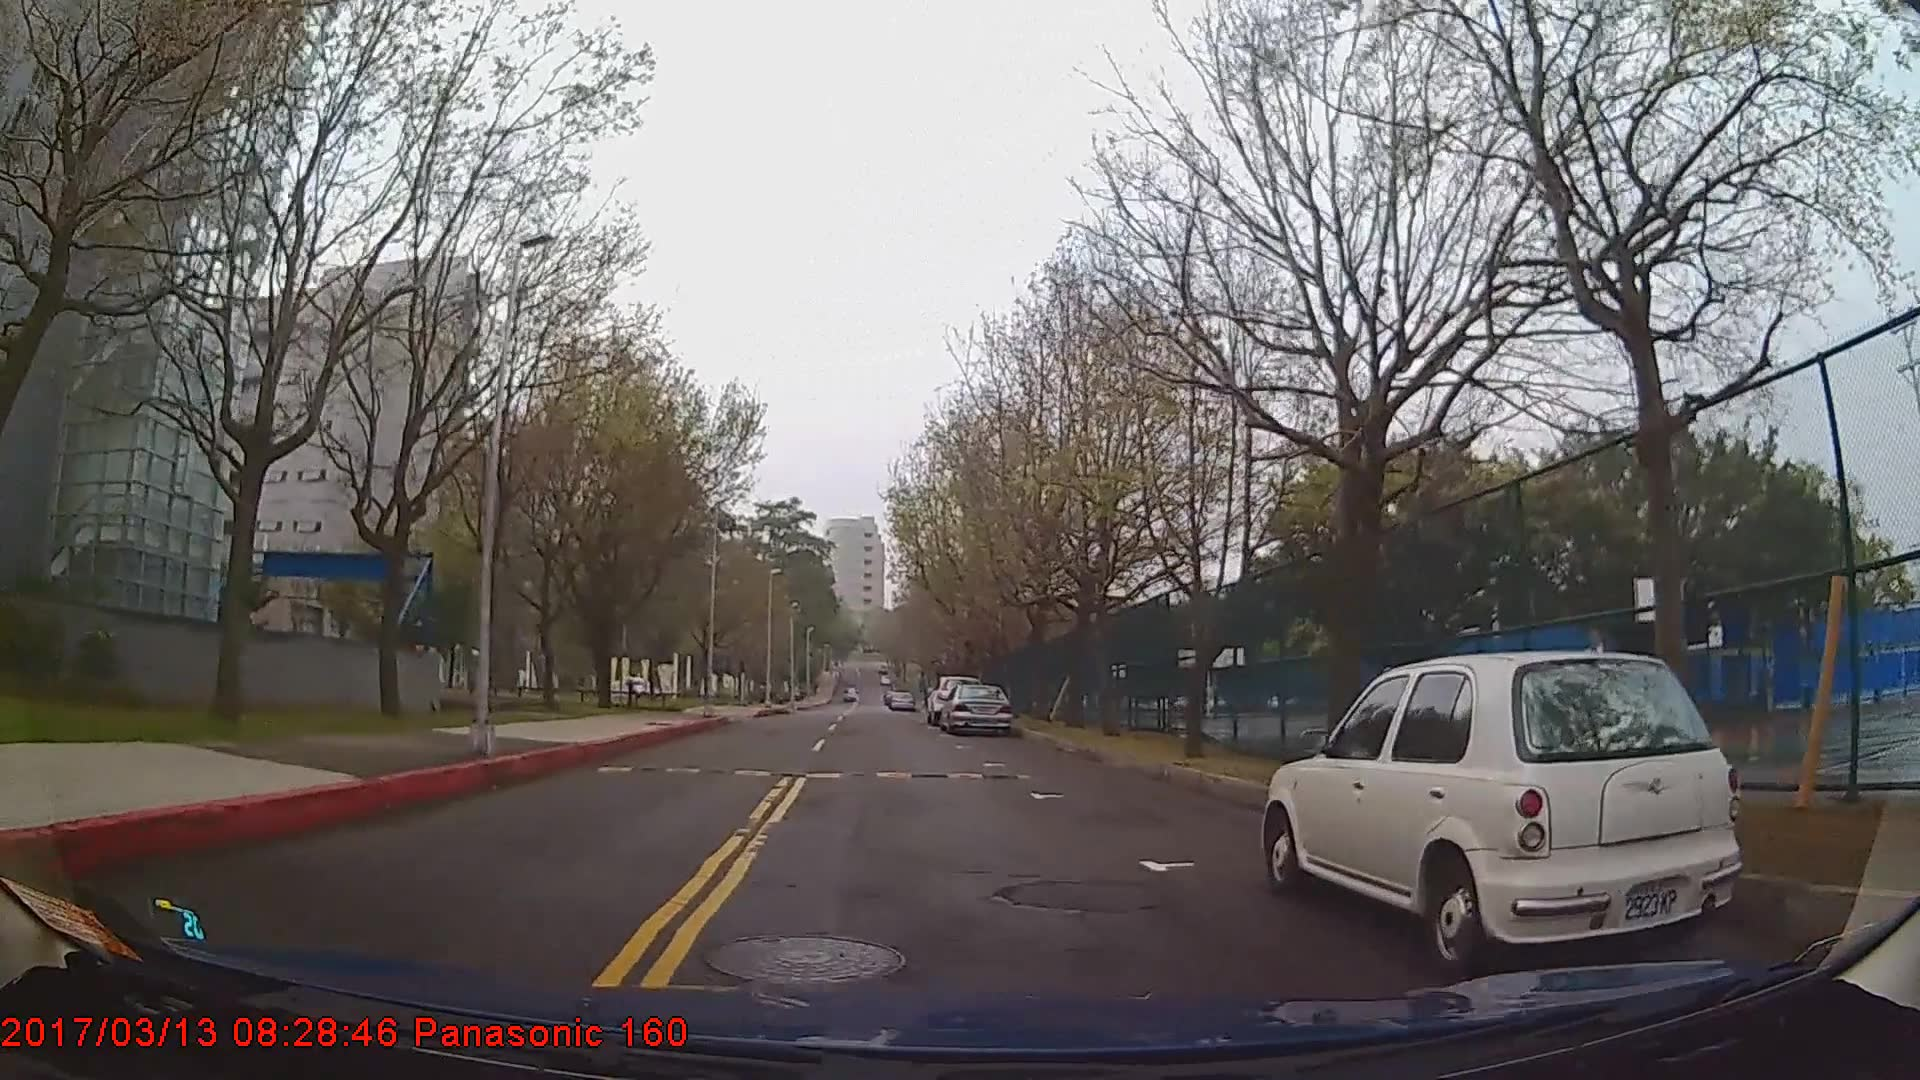vehicle: (1266, 647, 1750, 964), (940, 679, 1015, 732)
